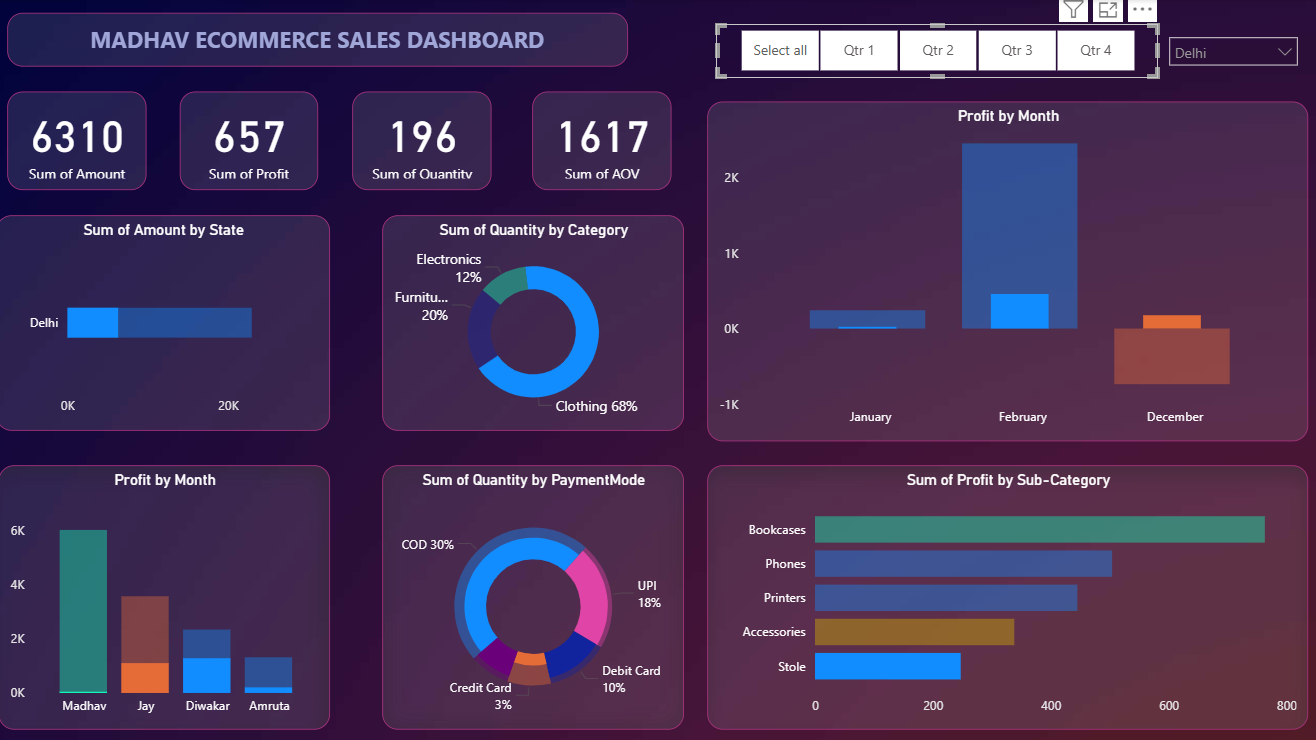

Layout of this report page (visuals, bound fields, positions):
{"tool":"powerbi","page":{"name":"Page 1","canvas":[1280,720],"ordinal":0},"visuals":[{"type":"textbox","box":[11.1,13.3,598.9,52.2],"z":0},{"type":"columnChart","title":" Profit by Month","fields":{"Y":["Sum(Details.Profit)"],"Category":["Orders.Order Date.Variation.Date Hierarchy.Month"]},"box":[686.7,98.9,580,327.8],"z":1000},{"type":"barChart","fields":{"Category":["Details.Sub-Category"],"Y":["Sum(Details.Profit)"]},"box":[686.7,450,580,255.6],"z":2000},{"type":"donutChart","fields":{"Y":["Sum(Details.Quantity)"],"Category":["Details.PaymentMode"]},"box":[372.2,450,291.1,255.6],"z":3000},{"type":"donutChart","fields":{"Y":["Sum(Details.Quantity)"],"Category":["Details.Category"]},"box":[372.2,208.9,291.1,207.8],"z":4000},{"type":"barChart","fields":{"Category":["Orders.State"],"Y":["Sum(Details.Amount)"]},"box":[0,208.9,322.2,207.8],"z":5000},{"type":"columnChart","title":" Profit by Month","fields":{"Category":["Orders.CustomerName"],"Y":["Sum(Details.Amount)"]},"box":[2.2,450,320,255.6],"z":6000},{"type":"card","fields":{"Values":["Sum(Details.Amount)"]},"box":[11.1,88.9,134.4,95.6],"z":7000},{"type":"card","fields":{"Values":["Sum(Details.Profit)"]},"box":[177.8,88.9,133.3,95.6],"z":8000},{"type":"card","fields":{"Values":["Sum(Details.Quantity)"]},"box":[343.3,88.9,134.4,95.6],"z":9000},{"type":"card","fields":{"Values":["Sum(Details.AOV)"]},"box":[517.8,88.9,134.4,95.6],"z":10000},{"type":"slicer","fields":{"Values":["Orders.Order Date.Variation.Date Hierarchy.Quarter"]},"box":[694.4,24.4,427.8,51.1],"z":11000},{"type":"slicer","fields":{"Values":["Orders.State"]},"box":[1122.2,26.7,144.4,46.7],"z":12000}]}

Visuals, with their boxes in screenshot pixels (x1, y1, x2, y2), scaled from the page's 1280x720 canvas onto the 1316x740 screenshot:
textbox: (11,14,627,67)
" Profit by Month" columnChart: (706,102,1302,439)
barChart - Details.Sub-Category x Sum(Details.Profit): (706,462,1302,725)
donutChart - Sum(Details.Quantity) x Details.PaymentMode: (383,462,682,725)
donutChart - Sum(Details.Quantity) x Details.Category: (383,215,682,428)
barChart - Orders.State x Sum(Details.Amount): (0,215,331,428)
" Profit by Month" columnChart: (2,462,331,725)
card - Sum(Details.Amount): (11,91,150,190)
card - Sum(Details.Profit): (183,91,320,190)
card - Sum(Details.Quantity): (353,91,491,190)
card - Sum(Details.AOV): (532,91,671,190)
slicer - Orders.Order Date.Variation.Date Hierarchy.Quarter: (714,25,1154,78)
slicer - Orders.State: (1154,27,1302,75)
